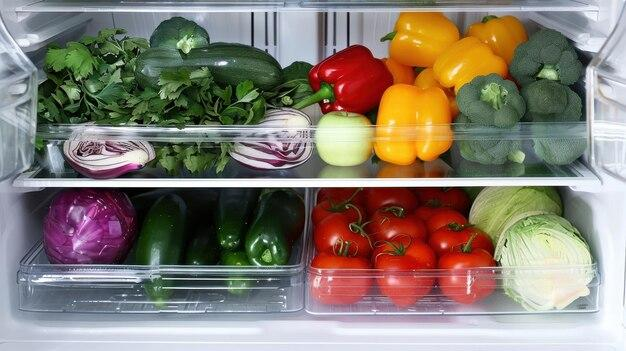bell pepper: (391, 20, 457, 171), (301, 29, 401, 118)
cabbage: (489, 199, 589, 310)
tomato: (330, 197, 479, 305)
